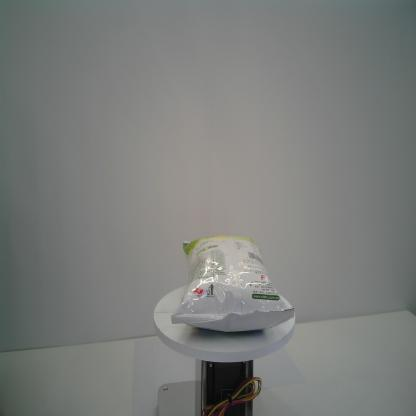Puffed Food: (170, 234, 295, 334)
